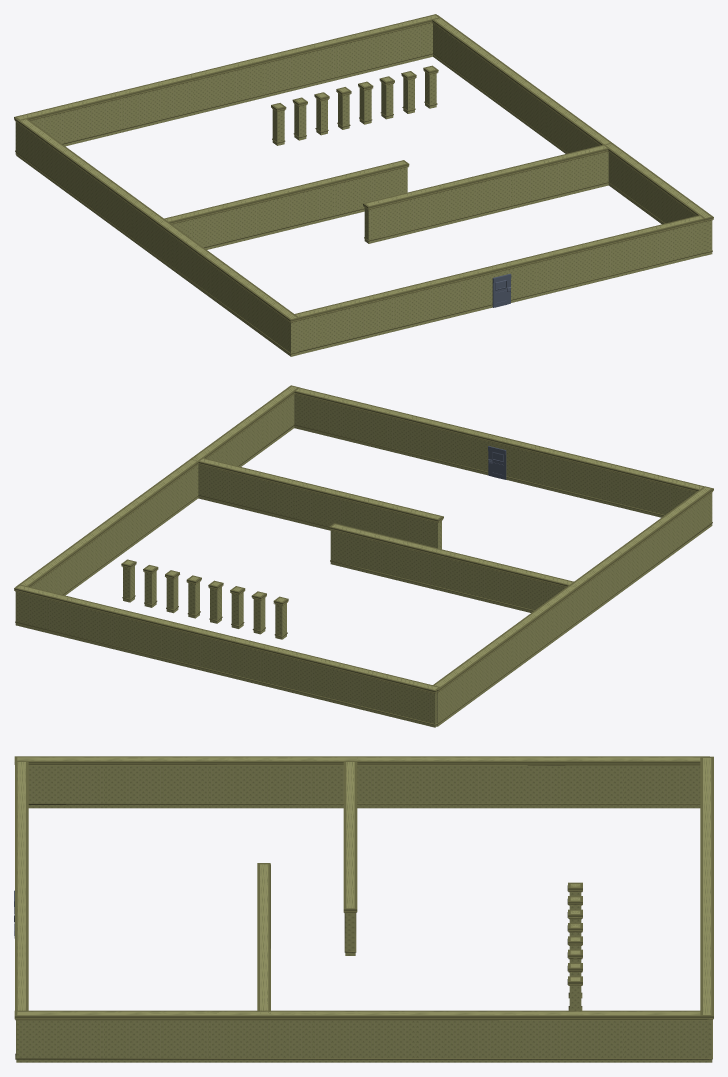
Rendered from map sketch.fbx.
3 renders of one model, top to bottom at view 1: azimuth 30°, elevation 25°; view 2: azimuth 150°, elevation 25°; view 3: azimuth 270°, elevation 25°, orthographic. The views are drawn at different scales.
Parts seen in each view (by area): view 1: wall.005, wall.001, wall.002, wall.003, wall.008, wall.004, wall.007, Cube.003; view 2: wall.001, wall.005, wall.002, wall.003, wall.004, wall.008, wall.007, Cube.003; view 3: wall.003, wall.002, wall.001, wall.005, wall.004, wall.008, wall.007.
Boxes of the visible parts, <box> form: wall.005: <box>295,215,704,354</box>; wall.001: <box>14,14,440,154</box>; wall.002: <box>14,118,299,356</box>; wall.003: <box>432,15,713,255</box>; wall.008: <box>363,143,614,243</box>; wall.004: <box>164,160,409,249</box>; wall.007: <box>271,65,438,145</box>; Cube.003: <box>492,273,511,307</box>; wall.001: <box>14,584,440,727</box>; wall.005: <box>294,387,703,517</box>; wall.002: <box>433,486,713,726</box>; wall.003: <box>16,385,299,595</box>; wall.004: <box>329,523,575,612</box>; wall.008: <box>190,456,443,549</box>; wall.007: <box>121,559,288,639</box>; Cube.003: <box>488,446,506,479</box>; wall.003: <box>14,1010,709,1062</box>; wall.002: <box>14,756,709,808</box>; wall.001: <box>700,756,713,1062</box>; wall.005: <box>15,762,28,1053</box>; wall.004: <box>343,761,357,955</box>; wall.008: <box>257,863,270,1015</box>; wall.007: <box>567,882,582,1010</box>.
Bounding box in the file's own units: 11865 × 1000 × 13483.
